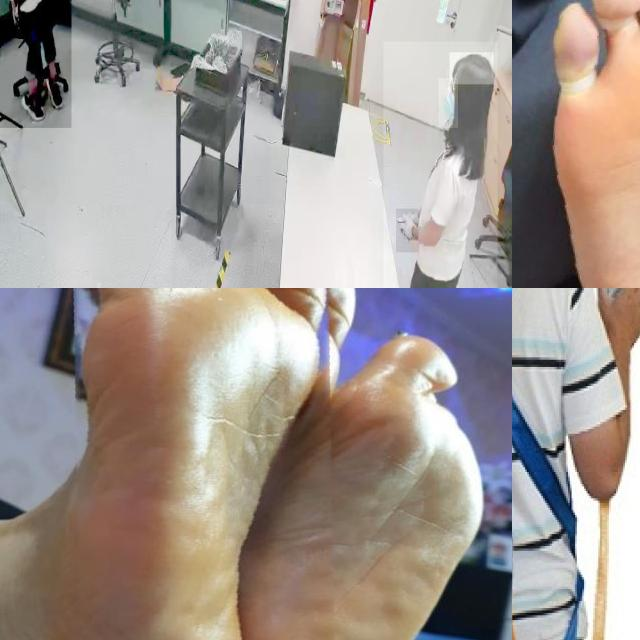Barefoots: (29, 288, 322, 640), (230, 329, 509, 640), (538, 0, 640, 288)
Harness: (512, 288, 568, 568)
face_mask: (438, 78, 458, 128)
hand_glove: (396, 209, 418, 252)
hand_noglove: (10, 1, 20, 28)
head_nohelmet: (450, 52, 494, 86)
person: (383, 41, 498, 288), (0, 0, 71, 129)
shoes: (16, 84, 46, 129), (45, 72, 66, 114)
